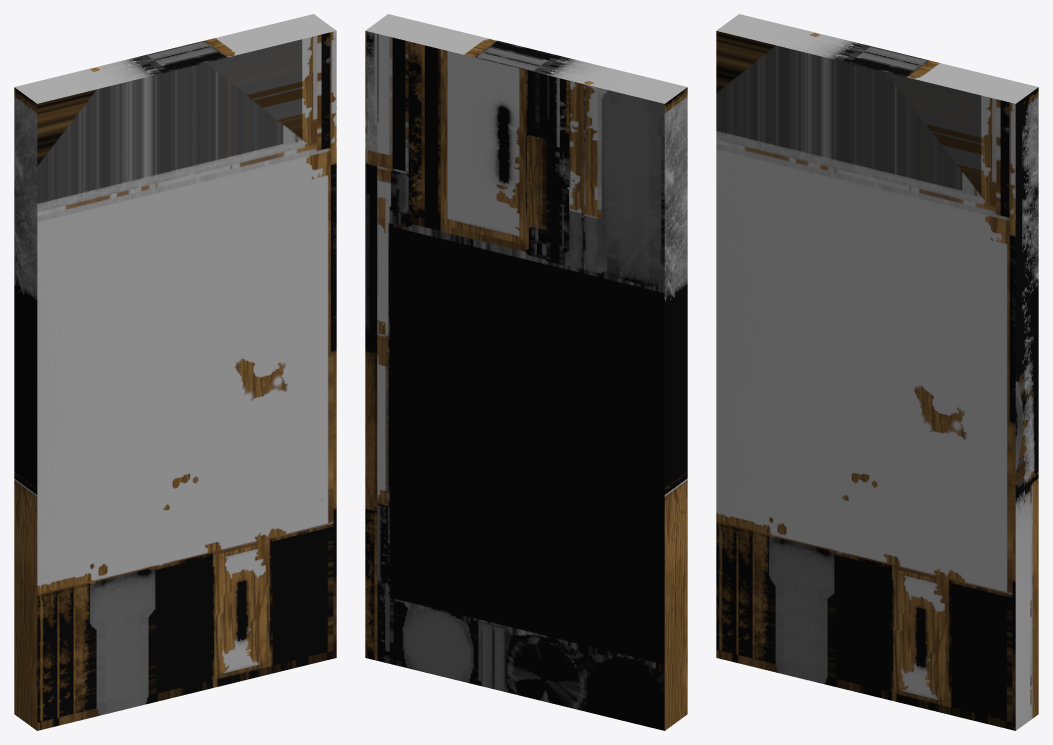
File: brick wall.fbx
3 views of the same model, side by side, from view 1: azimuth 30°, elevation 25°; view 2: azimuth 150°, elevation 25°; view 3: azimuth 330°, elevation 25° (orthographic).
Parts seen in each view (by area): view 1: Cube.003; view 2: Cube.003; view 3: Cube.003.
Boxes of the visible parts, box(x1,y1,x2,y2) form: Cube.003: box(14, 14, 336, 730); Cube.003: box(365, 14, 687, 730); Cube.003: box(716, 14, 1038, 730).
Size of the model in its own units: 400 by 800 by 53.09.
